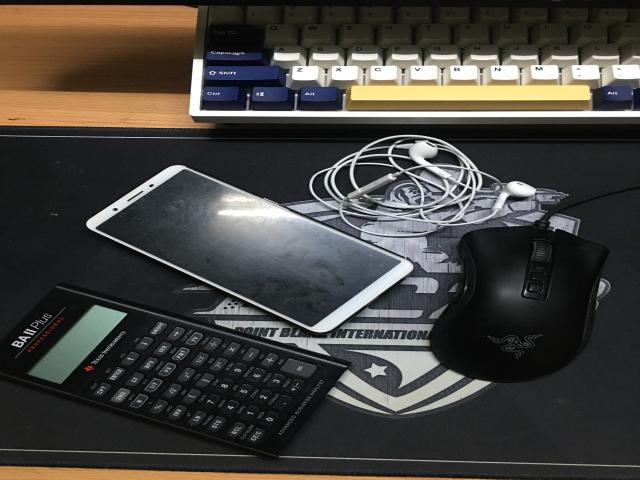Mobile phone: (87, 165, 413, 334)
Mouse: (430, 185, 638, 382)
wire: (308, 135, 533, 237)
